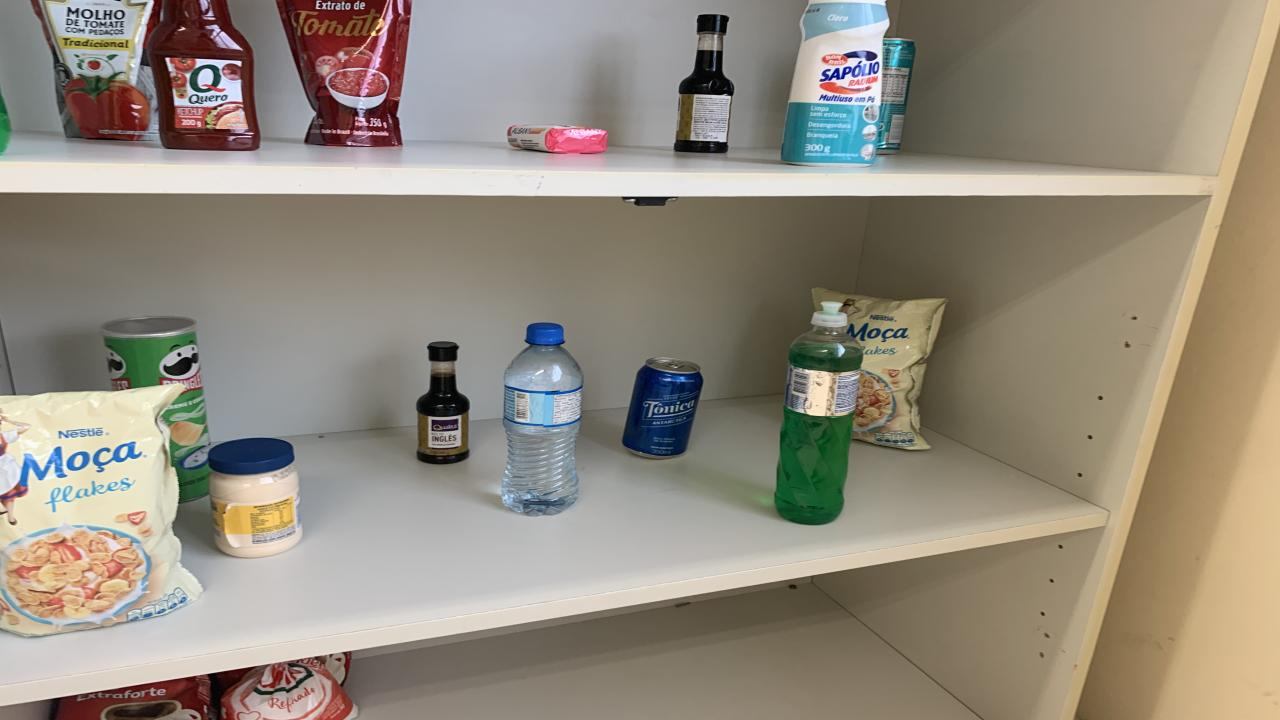Cleaner-Cleanup_Items: (780, 0, 890, 167)
Detergent-Cleanup_Items: (775, 302, 862, 525)
English_Sauce-Pantry_Items: (675, 15, 735, 154), (415, 341, 470, 465)
Flakes-Snacks: (0, 384, 202, 636), (812, 289, 948, 450)
Ketchup-Pantry_Items: (148, 0, 260, 150)
Mayonnaise-Pantry_Items: (208, 437, 302, 557)
Pringles-Snacks: (102, 317, 210, 502)
Soap-Cleanup_Items: (508, 124, 608, 154)
Tea-Drinks: (878, 38, 915, 154)
Tomato_Sauce-Pantry_Items: (278, 0, 412, 146), (32, 0, 158, 141)
Tonic-Drinks: (622, 356, 702, 458)
Water_Bottle-Drinks: (502, 324, 582, 516)
